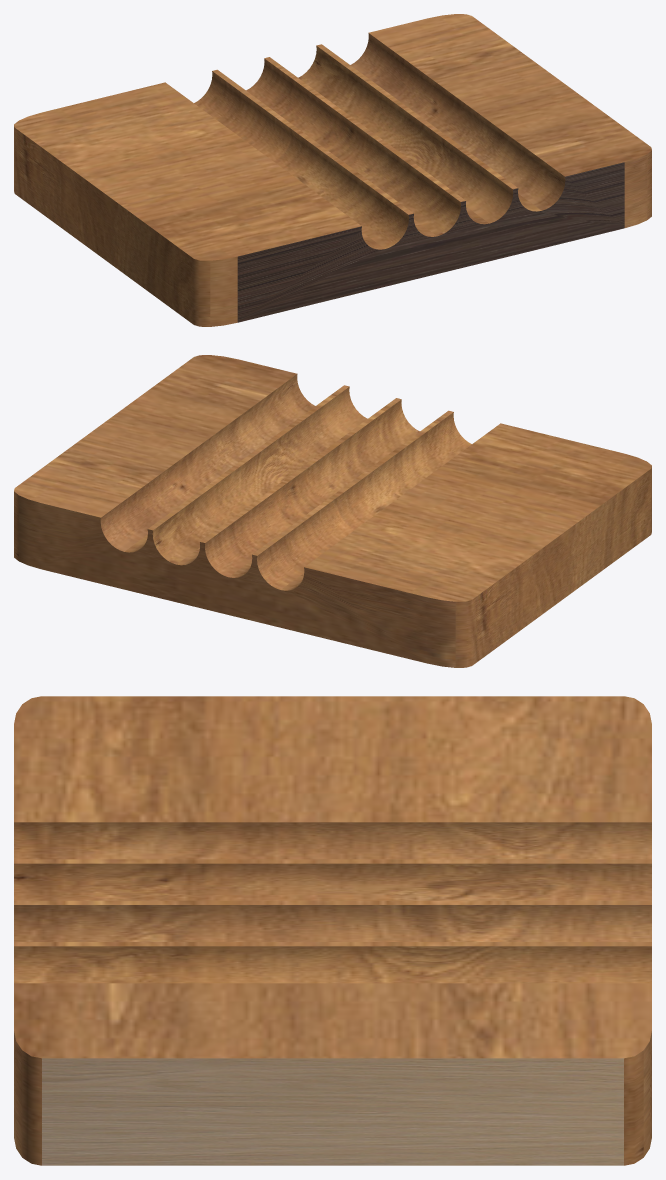
Rendered from stand1.glb.
The picture shows the model from 3 angles, top to bottom: view 1: azimuth 30°, elevation 25°; view 2: azimuth 150°, elevation 25°; view 3: azimuth 270°, elevation 25°; orthographic projection. The views are drawn at different scales.
Visible parts, largest first — view 1: Stand1; view 2: Stand1; view 3: Stand1.
Boxes of the visible parts, box(x1,y1,x2,y2) form: Stand1: box(14, 14, 651, 326); Stand1: box(14, 355, 651, 667); Stand1: box(14, 696, 651, 1165).
Size of the model in its own units: 1.66 by 0.2299 by 1.24.
Materials: 3 (3 with a texture image).
